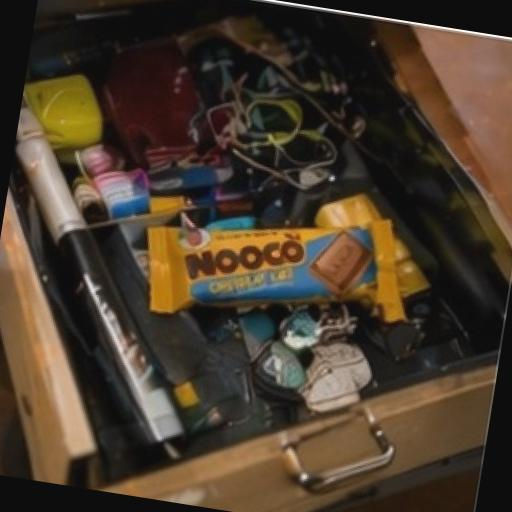biscuit-detection: (126, 175, 444, 368)
